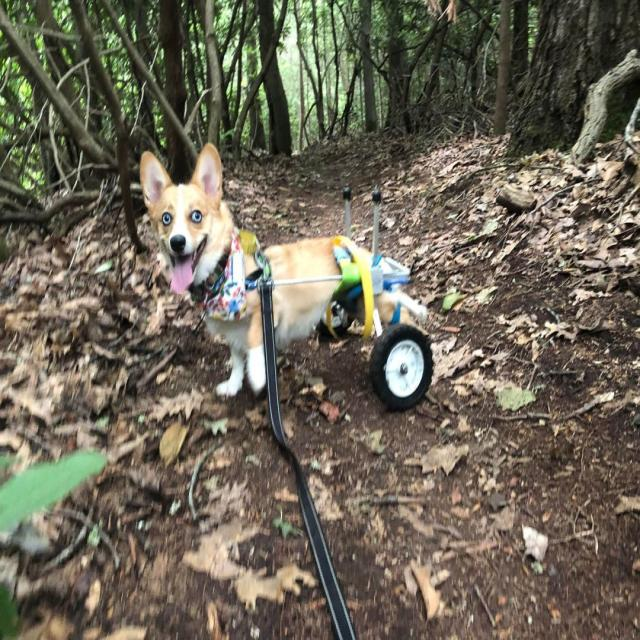corgi_dog: (135, 131, 238, 304)
